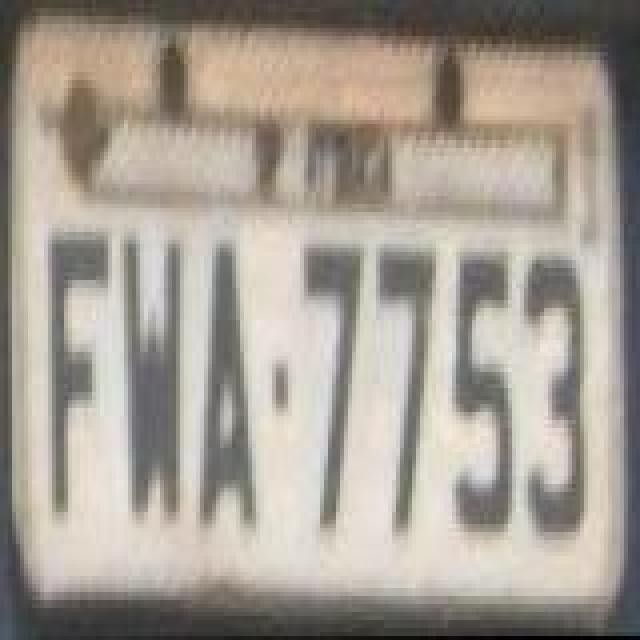3: (522, 246, 590, 538)
5: (448, 242, 512, 538)
7: (304, 234, 368, 530), (376, 244, 440, 536)
A: (192, 230, 256, 534)
F: (48, 230, 112, 522)
W: (118, 236, 186, 532)
